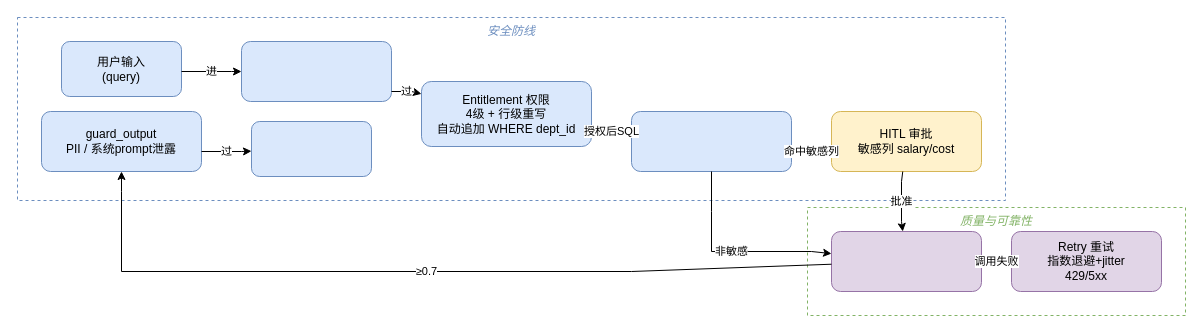
Some shapes in this 1203 by 333 pixel diagram are drawn without their labels. The centre of each missing label's shape, as x and y in pixels:
"Confidence Gate 6维度·阈值0.7" belongs at [906,261].
"guard_input 注入/超长/SQL写" belongs at [316,71].
"guard_sql SELECT-only 多语句/系统表拦截" belongs at [711,141].
"输出 (安全回答)" belongs at [311,148].
